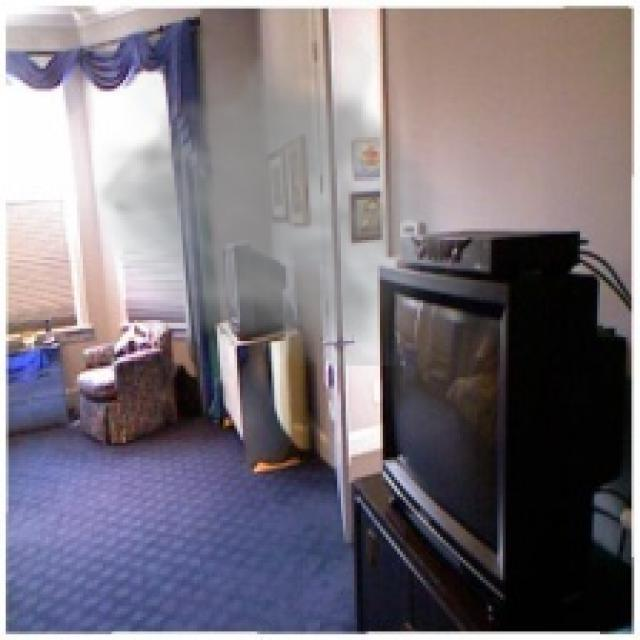Smoke: (80, 17, 472, 366)
